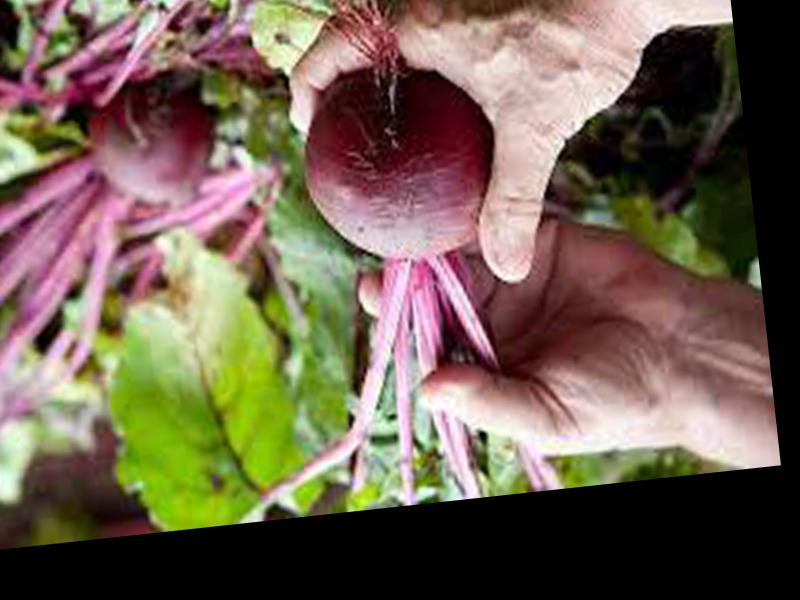Beet: (190, 54, 535, 520)
